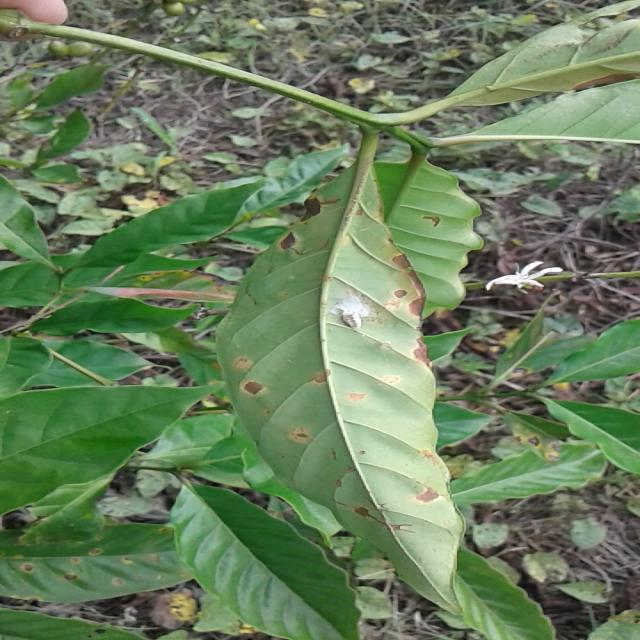Enfermedad-Roya: (217, 134, 461, 617)
